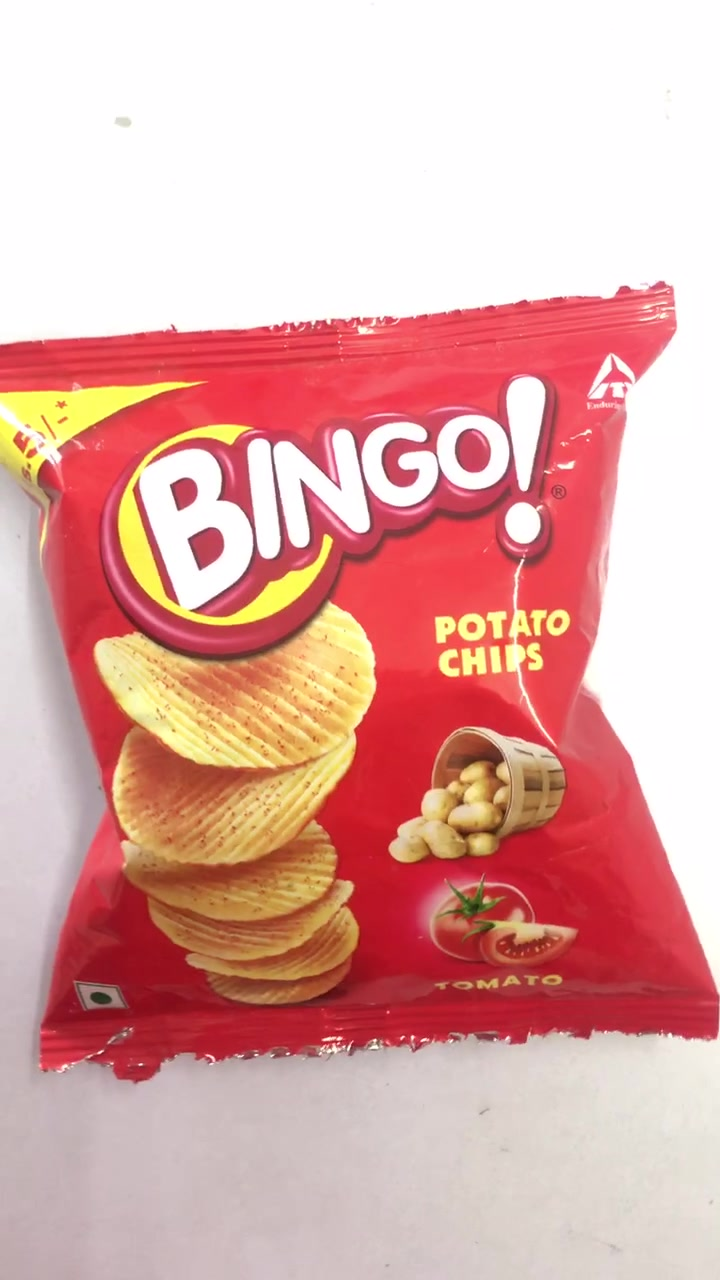Bingo: (5, 342, 720, 1028)
